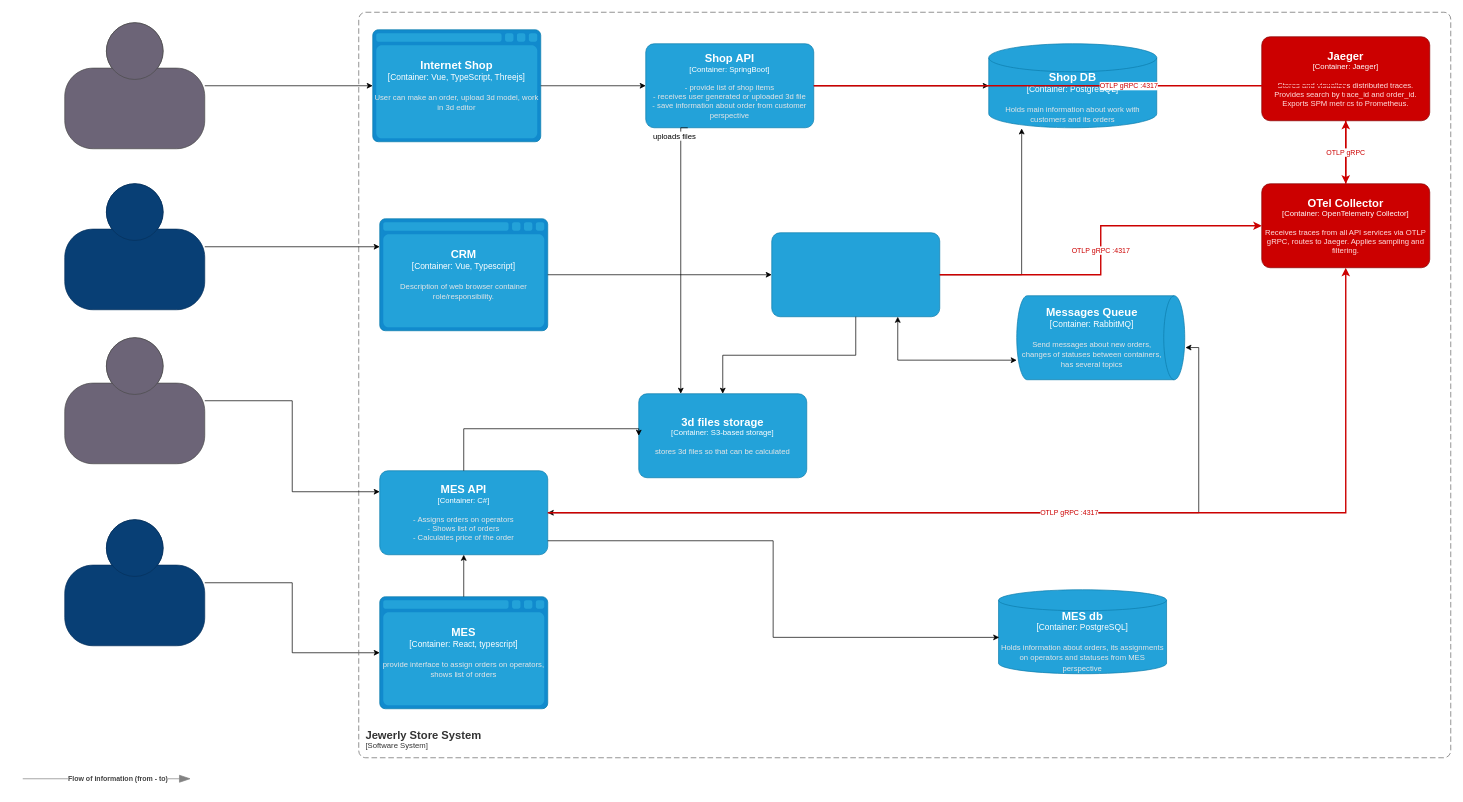
Some shapes in this 1463 by 802 pixel diagram are drawn without their labels. Each missing label, with the centre of its shape:
"API user [Person] Description of external person." belongs at (x=134, y=400).
"CRM API [Container: SpringBoot] Description of container role/responsibility." belongs at (x=855, y=274).
"Customer [Person] Description of external person." belongs at (x=134, y=85).
"Operator [Person] Takes order in work, manufactures jewerly" belongs at (x=134, y=582).
"Seller [Person] Operates with order, confirms manufacturing for the user" belongs at (x=134, y=246).
